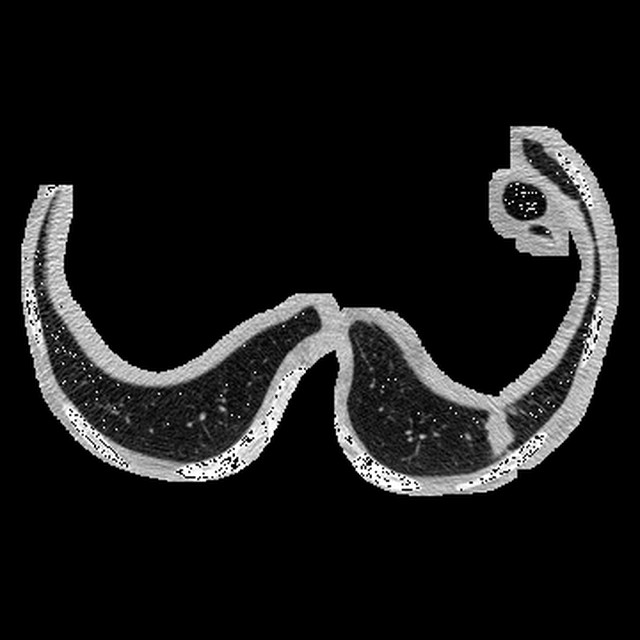PN: (482, 414, 517, 450)
